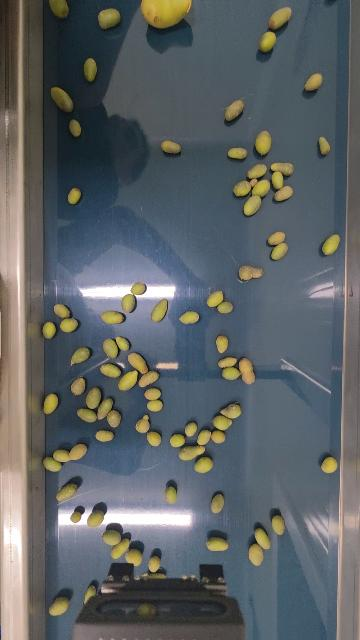Baby Potato: (138, 0, 194, 30), (49, 85, 74, 114), (267, 5, 293, 30), (223, 98, 246, 122), (97, 7, 121, 29), (238, 356, 256, 385), (127, 351, 149, 374), (178, 444, 207, 461), (254, 129, 272, 156), (151, 297, 169, 323), (238, 264, 264, 282), (118, 369, 139, 391), (258, 30, 277, 54), (49, 595, 70, 616), (48, 0, 70, 20), (56, 482, 78, 502), (112, 536, 131, 559), (243, 194, 262, 217), (322, 233, 340, 257), (254, 526, 272, 550), (70, 346, 91, 366), (232, 178, 254, 197), (206, 535, 229, 553), (96, 397, 114, 420), (137, 369, 160, 387), (220, 401, 243, 419), (85, 386, 102, 410), (102, 336, 119, 360), (83, 56, 98, 83), (100, 309, 125, 325), (251, 177, 271, 197), (304, 71, 323, 92), (86, 508, 105, 528), (270, 161, 295, 176), (43, 392, 59, 415), (99, 362, 122, 378), (248, 543, 264, 566), (270, 242, 289, 261), (272, 185, 293, 202), (212, 413, 233, 430), (247, 163, 268, 180), (76, 407, 97, 423), (210, 492, 225, 514), (271, 514, 286, 536), (160, 140, 182, 155), (69, 443, 87, 461), (267, 230, 286, 247), (194, 456, 213, 473), (43, 456, 62, 473), (221, 365, 241, 381), (70, 376, 86, 396), (102, 529, 122, 545), (179, 310, 200, 325), (121, 293, 136, 314), (207, 290, 224, 308), (60, 317, 79, 333), (321, 455, 337, 474), (106, 409, 122, 428), (135, 414, 150, 434), (227, 146, 248, 160), (317, 135, 331, 156), (126, 548, 143, 565), (53, 303, 71, 319), (270, 170, 285, 189), (215, 334, 229, 354), (42, 320, 56, 340), (83, 584, 96, 605), (218, 355, 239, 368), (197, 428, 212, 446), (68, 118, 82, 137), (169, 433, 186, 448), (67, 187, 81, 205), (95, 429, 114, 442), (210, 429, 226, 444), (53, 448, 70, 462), (144, 387, 162, 400), (146, 431, 161, 446), (184, 421, 198, 437), (217, 300, 233, 314), (115, 335, 129, 351), (146, 399, 163, 412), (148, 555, 160, 573), (165, 485, 176, 504), (131, 282, 145, 296), (70, 509, 81, 524)
